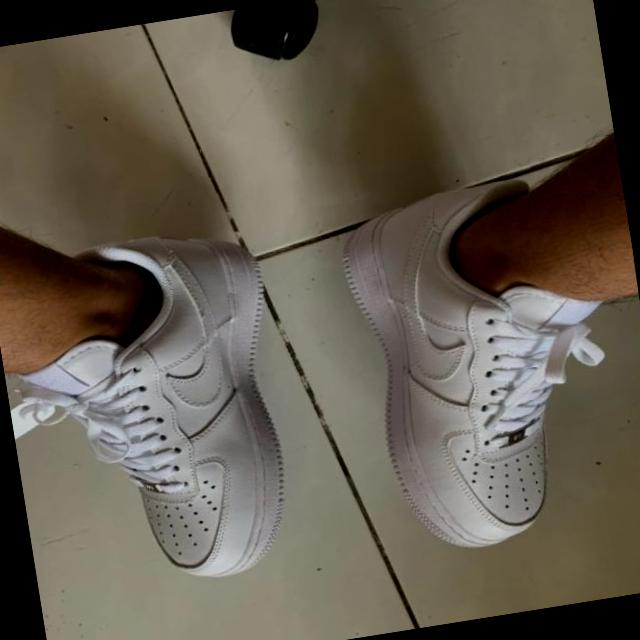nike_original_airforce: (287, 156, 640, 571), (0, 216, 316, 604)
